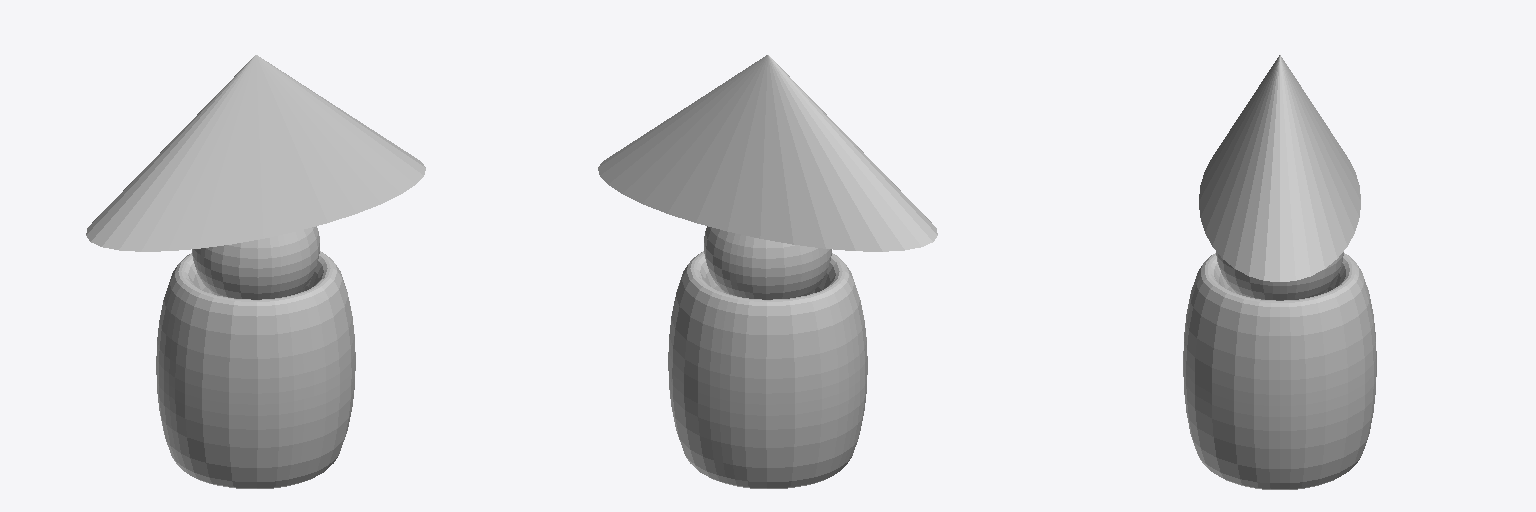
Rendered from lamp.obj.
The picture shows the model from 3 angles: view 1: azimuth 30°, elevation 25°; view 2: azimuth 150°, elevation 25°; view 3: azimuth 270°, elevation 25°; orthographic projection.
Parts seen in each view (by area): view 1: SurfTorus, Cone, SurfSphere; view 2: SurfTorus, Cone, SurfSphere; view 3: SurfTorus, Cone, SurfSphere.
Boxes of the visible parts, box(x1,y1,x2,y2) form: SurfTorus: box(156, 251, 355, 488); Cone: box(86, 55, 425, 251); SurfSphere: box(192, 226, 319, 299); SurfTorus: box(668, 251, 867, 488); Cone: box(598, 55, 937, 251); SurfSphere: box(704, 226, 831, 299); SurfTorus: box(1183, 253, 1376, 489); Cone: box(1199, 55, 1360, 281); SurfSphere: box(1216, 252, 1343, 300).
Bounding box in the file's own units: 4.7 × 5.47 × 2.38.